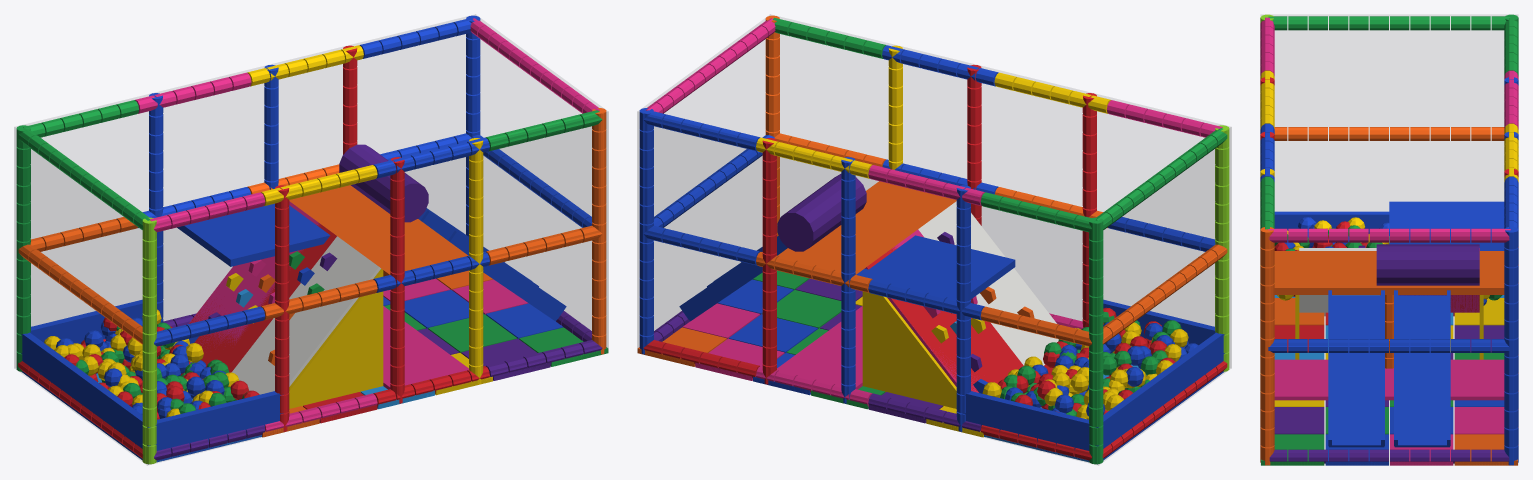
The model's file is kidplay-4m.glb.
3 renders of one model, left to right at view 1: azimuth 30°, elevation 25°; view 2: azimuth 150°, elevation 25°; view 3: azimuth 270°, elevation 25°, orthographic. The views are drawn at different scales.
Visible parts, largest first — view 1: azul, laranja, amarelo, vermelho, rosa, verde, roxo, branco, verdeclaro, azulclaro; view 2: azul, vermelho, laranja, amarelo, verde, rosa, roxo, branco, verdeclaro; view 3: azul, laranja, rosa, roxo, verde, amarelo, vermelho, branco, azulclaro.
Part boxes in pixels (<box>): azul: <box>21,15,592,464</box>; laranja: <box>18,108,606,437</box>; amarelo: <box>44,45,492,417</box>; vermelho: <box>18,45,489,458</box>; rosa: <box>135,18,599,431</box>; verde: <box>16,100,608,413</box>; roxo: <box>154,144,602,460</box>; branco: <box>231,236,380,394</box>; verdeclaro: <box>142,217,156,464</box>; azulclaro: <box>67,289,434,461</box>; azul: <box>639,45,1224,461</box>; vermelho: <box>643,64,1227,460</box>; laranja: <box>637,15,1227,366</box>; amarelo: <box>756,45,1188,437</box>; verde: <box>752,17,1227,464</box>; rosa: <box>646,18,1222,406</box>; roxo: <box>653,174,982,431</box>; branco: <box>918,201,1058,365</box>; verdeclaro: <box>1215,125,1229,371</box>; azul: <box>1260,77,1518,465</box>; laranja: <box>1260,127,1517,465</box>; rosa: <box>1260,17,1518,465</box>; roxo: <box>1260,244,1509,463</box>; verde: <box>1260,14,1518,465</box>; amarelo: <box>1260,70,1518,406</box>; vermelho: <box>1260,77,1518,445</box>; branco: <box>1299,248,1379,316</box>; azulclaro: <box>1274,295,1504,359</box>.
Size of the model in its own units: 4 by 2.02 by 2.
